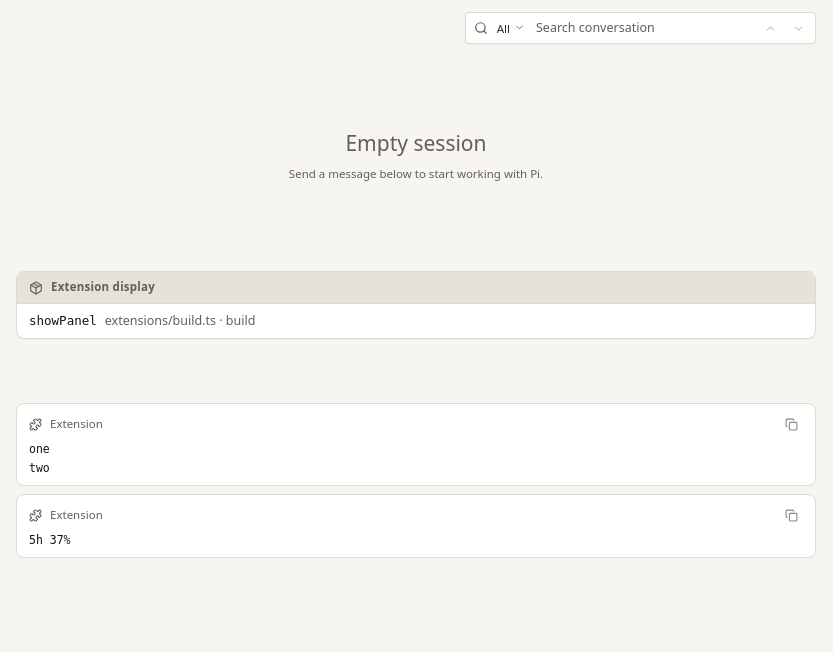
Test case: foregrounds placed widget text, copies it fully and retains attributable raw fallback
The width and height of the screenshot is (833, 652).
expect the element named "Extension widget" is shown: met, box 16,403 -> 816,486
Step 1. Click the 1st button named "Copy extension widget" → point(791, 424), box 779,412 -> 803,436
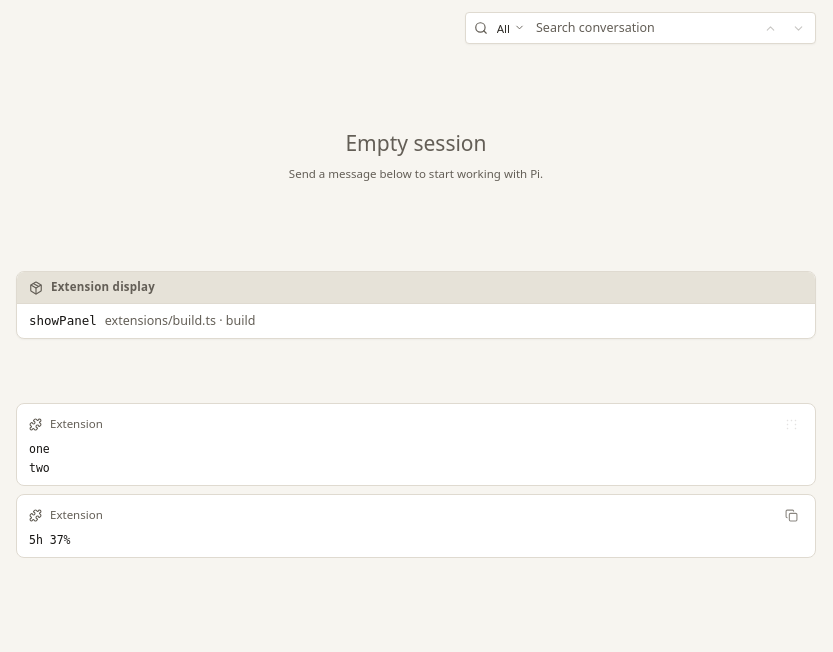
expect the text with class "extension-display__text" reads "one two": met, box 29,442 -> 50,475
expect the text "5h 37%" is shown: met, box 29,533 -> 70,547
Step 2. Click the text "extensions/build.ts · build" → point(180, 321), box 105,312 -> 255,330
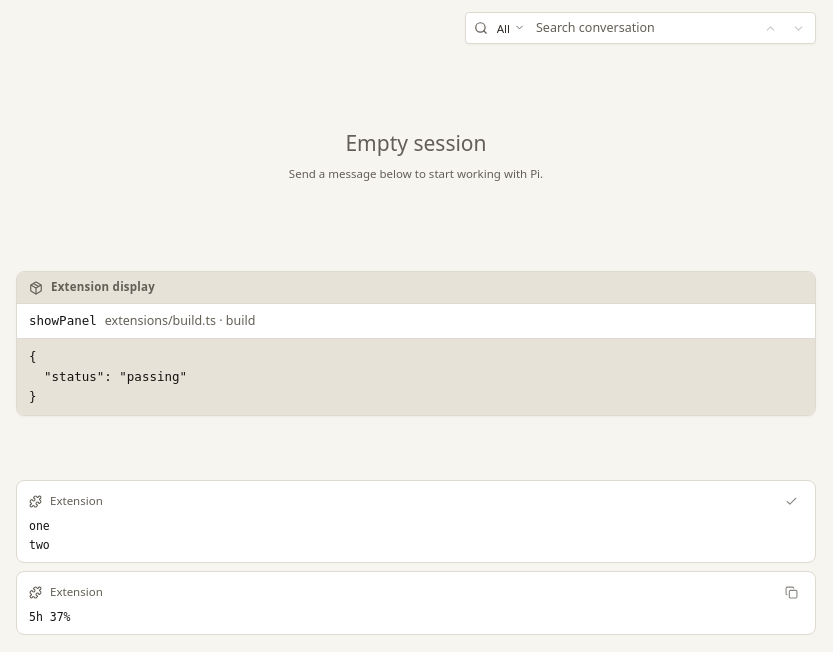
expect the text "{ \"status\": \"passing\" }" is shown: met, box 17,338 -> 815,415
